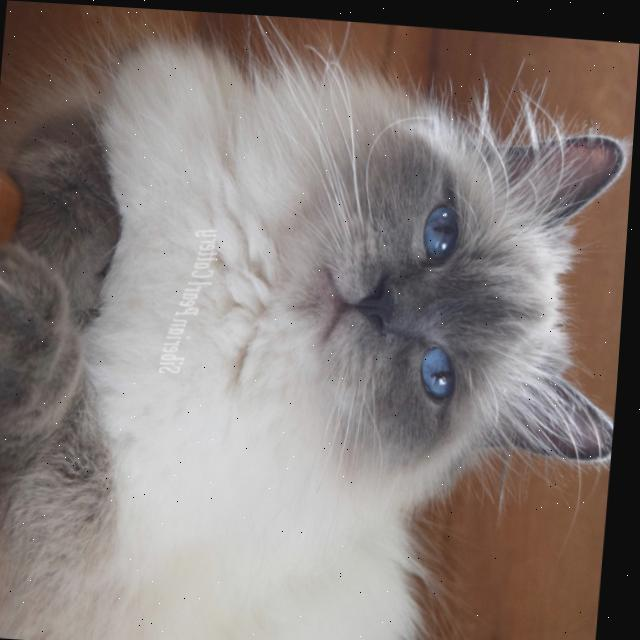Neva Masquerade: (0, 18, 639, 640)
